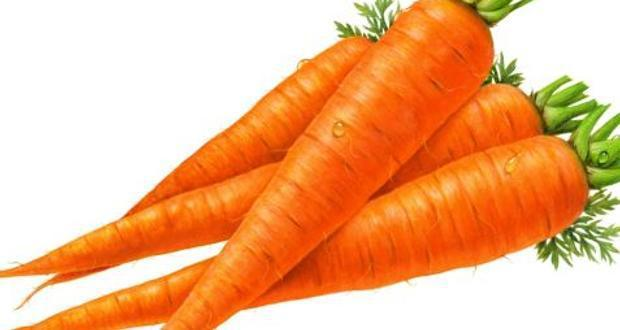carrot: (14, 13, 620, 285), (283, 0, 620, 261)
